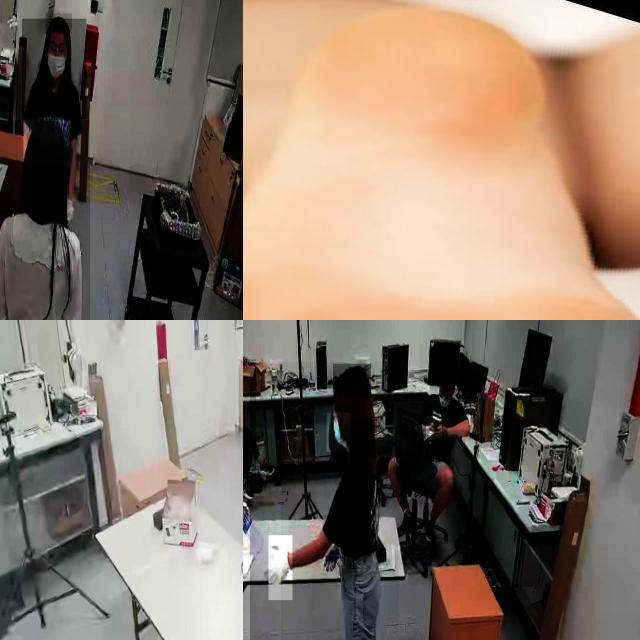Barefoots: (243, 0, 640, 320)
face_mask: (326, 412, 350, 452), (44, 47, 68, 83)
hand_glove: (269, 535, 293, 601), (243, 496, 254, 550)
hand_noglove: (426, 416, 442, 441), (434, 420, 448, 440)
head_nohelmet: (24, 118, 70, 166), (333, 364, 371, 398), (46, 13, 72, 35), (438, 368, 456, 382)
person: (281, 361, 398, 640), (0, 120, 90, 320), (22, 19, 87, 120), (420, 382, 471, 462), (243, 359, 256, 489)
